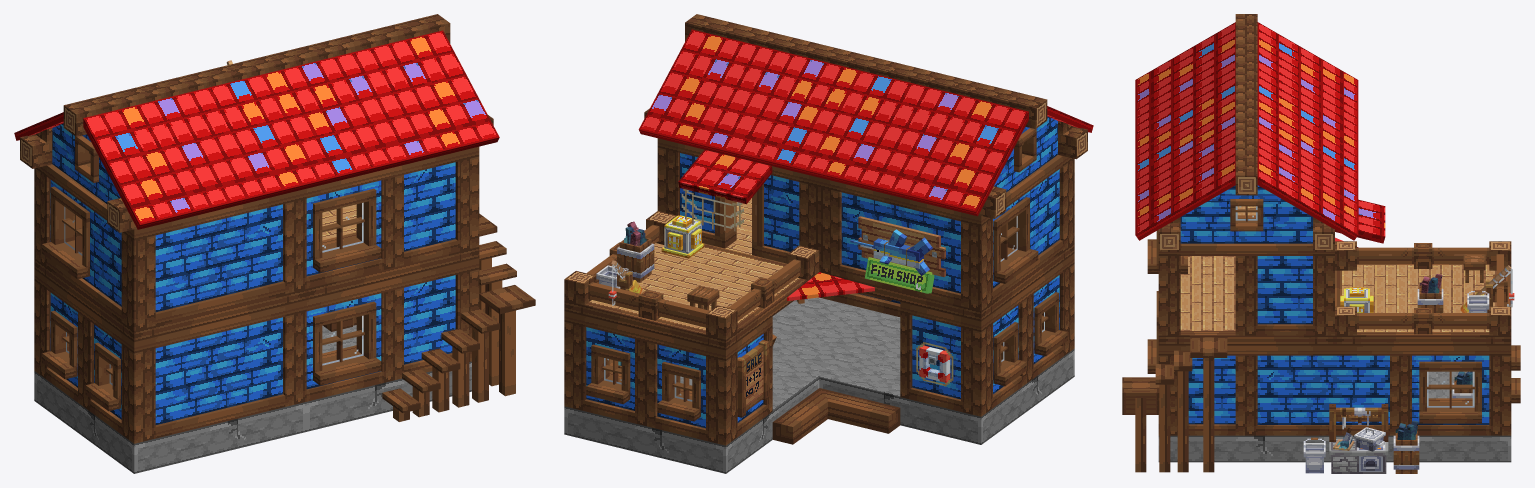
Rendered from shop.gltf.
The picture shows the model from 3 angles, left to right: view 1: azimuth 30°, elevation 25°; view 2: azimuth 150°, elevation 25°; view 3: azimuth 270°, elevation 25°; orthographic projection. The views are drawn at different scales.
Visible parts, largest first — view 1: cube (×58); view 2: cube (×63); view 3: cube (×52).
Part boxes in pixels (bbox=[...]): cube (×58): bbox=[20, 14, 517, 473]; cube (×63): bbox=[564, 14, 1087, 473]; cube (×52): bbox=[1122, 14, 1511, 473].
Bounding box in the file's own units: 13.75 × 11.07 × 13.54.
Materials: 34 (34 with a texture image).
